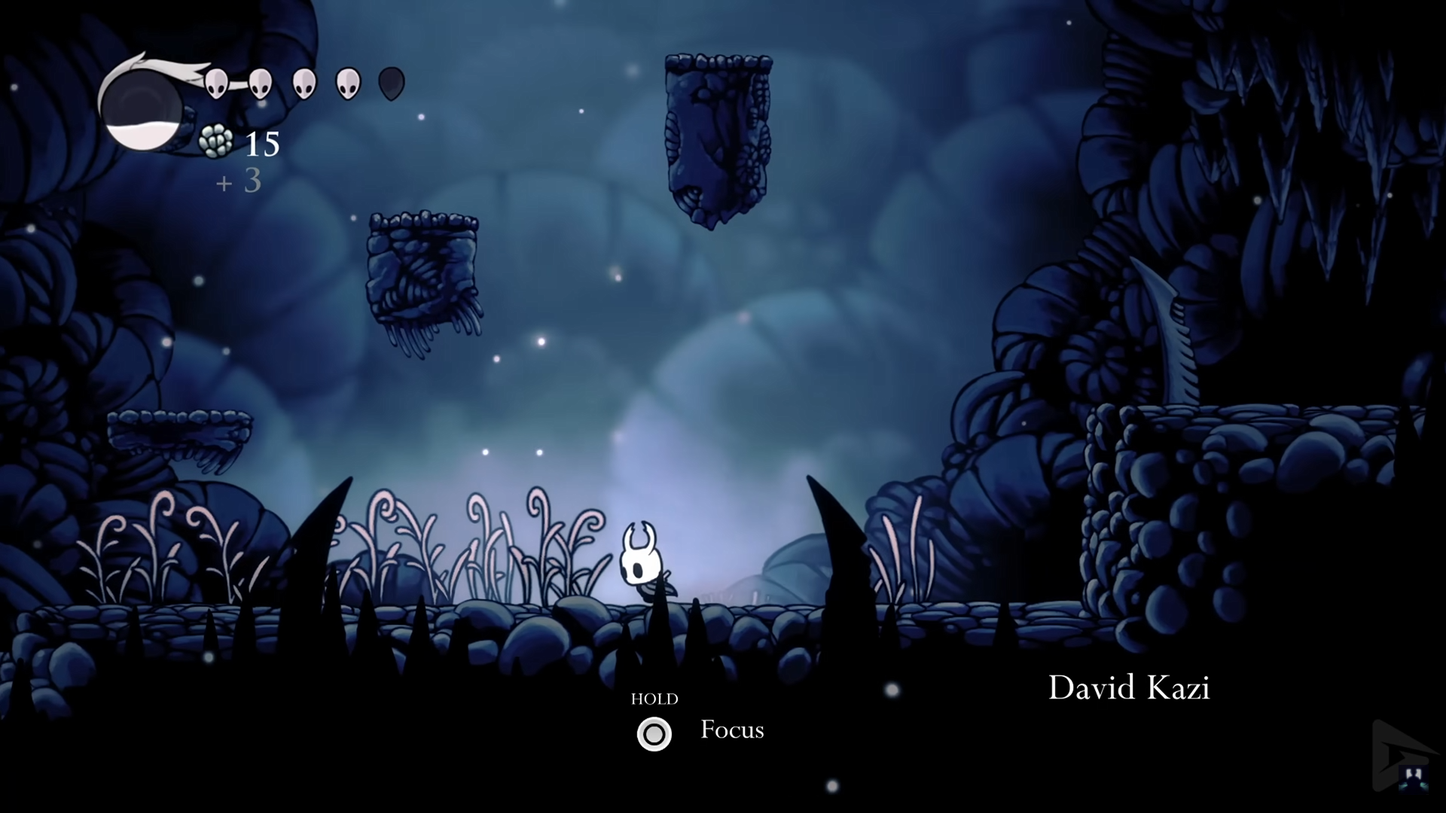HK: (616, 518, 677, 610)
